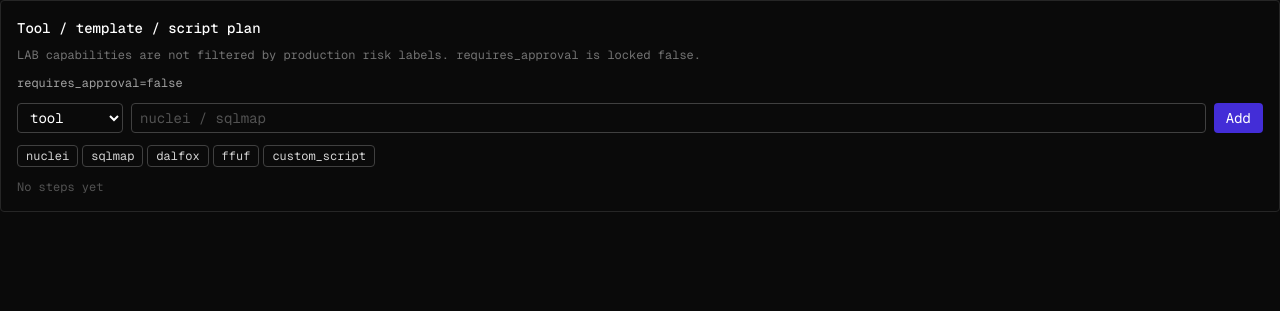
Test: PlanEditor › locks requires_approval false in LAB and can add unsigned/code/headless templates
Expected: the text with test id "lab-plan-approval" reads "requires_approval=false", [17,75,183,91]
Step 1. Select "template" in the dropdown with test id "lab-plan-kind" → (70,118), box [17,103,123,133]
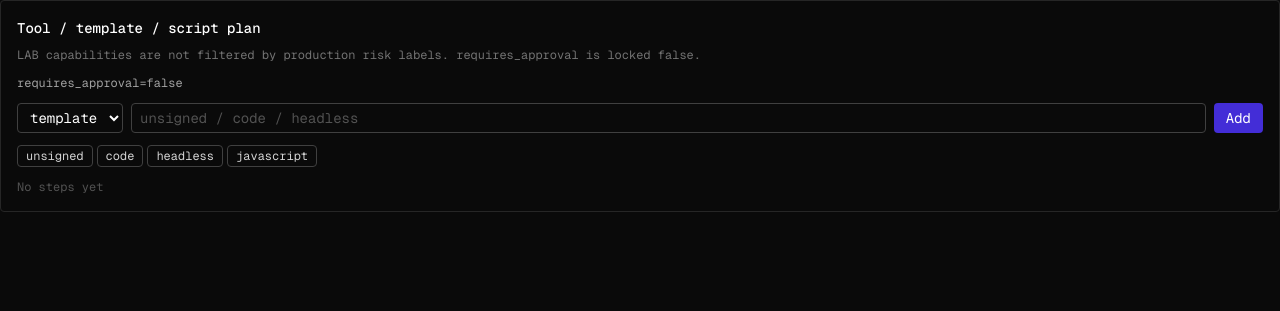
Step 2. Click the button "unsigned" → (55,156), box [17,145,93,167]
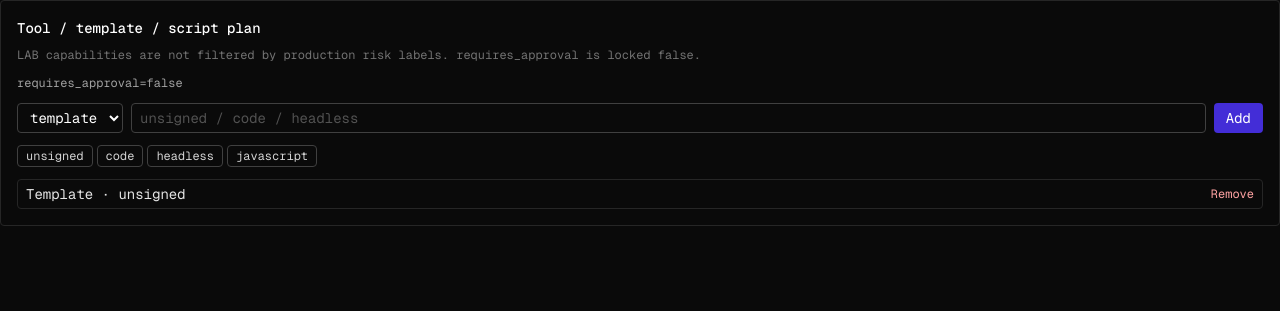
Step 3. Click the button "code" → (120,156), box [97,145,143,167]
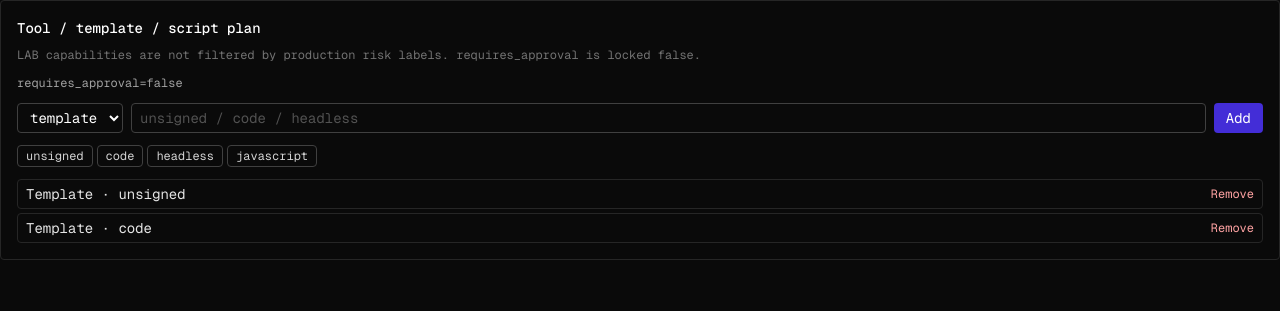
Step 4. Click the button "headless" → (185,156), box [147,145,223,167]
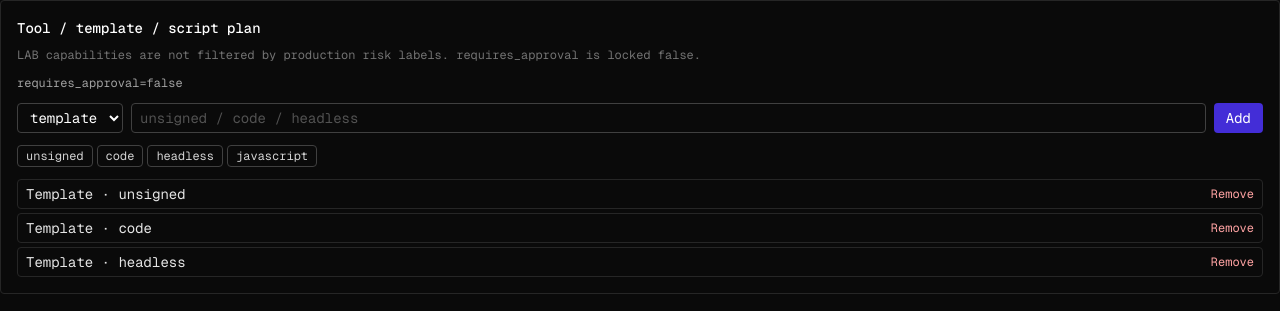
Expected: the list with test id "lab-plan-steps" shows "unsigned", [118,185,186,203]
Expected: the list with test id "lab-plan-steps" shows "code", [118,219,152,237]
Expected: the list with test id "lab-plan-steps" shows "headless", [118,253,186,271]
